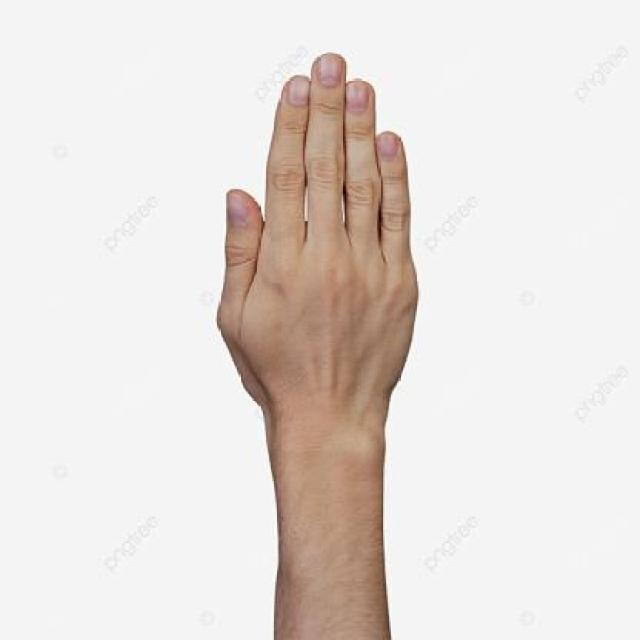no_apron: (218, 45, 428, 432)
